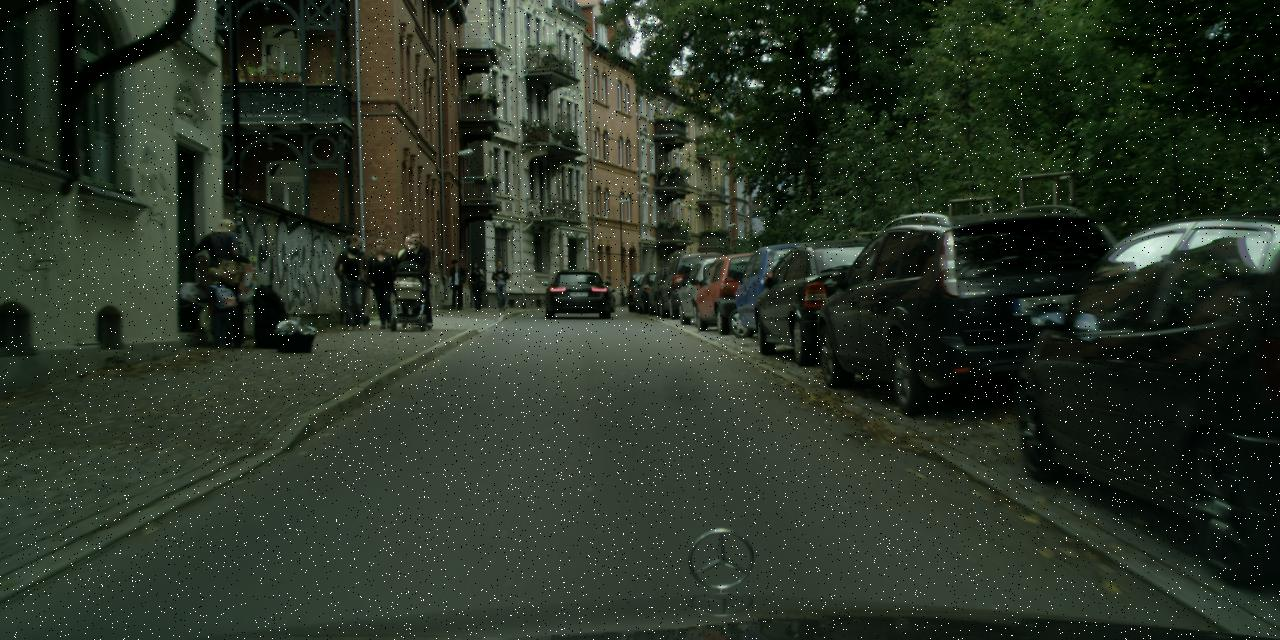ped: (201, 217, 253, 347), (399, 230, 439, 328), (336, 234, 374, 330), (188, 254, 226, 347), (390, 235, 427, 327), (366, 238, 402, 328), (203, 266, 236, 349), (446, 259, 466, 309), (490, 260, 510, 310), (467, 261, 486, 310)
